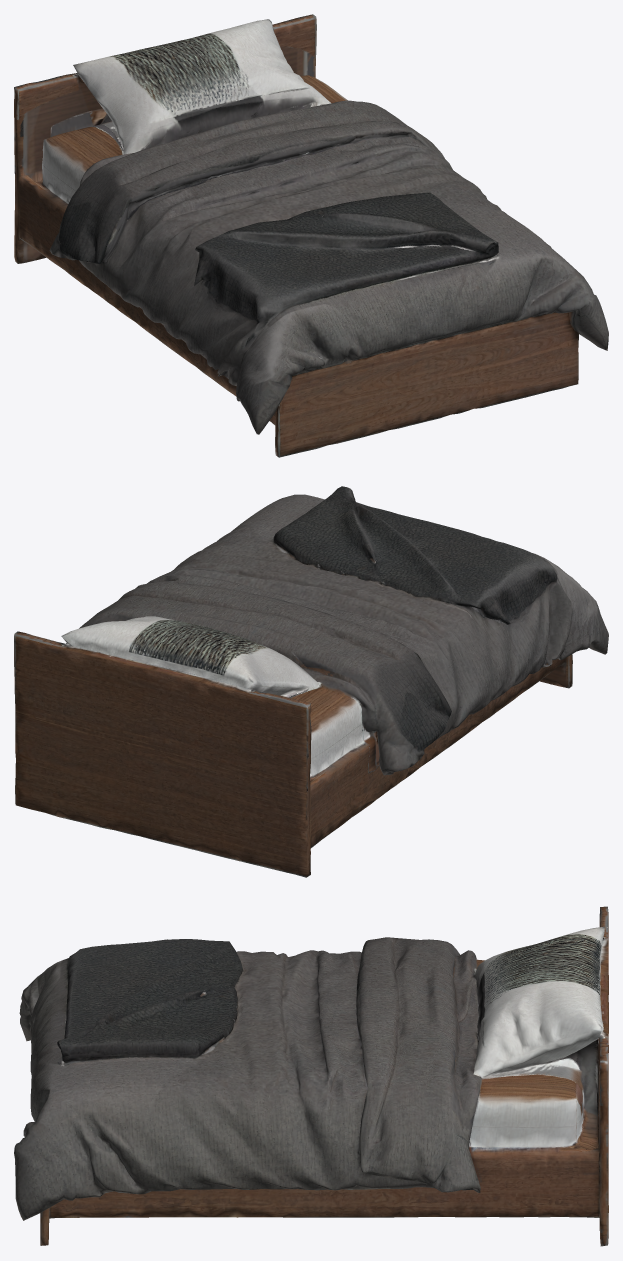
Rendered from Bed.glb.
The picture shows the model from 3 angles, top to bottom: view 1: azimuth 30°, elevation 25°; view 2: azimuth 150°, elevation 25°; view 3: azimuth 270°, elevation 25°; orthographic projection. The views are drawn at different scales.
Parts seen in each view (by area): view 1: texture_mapping; view 2: texture_mapping; view 3: texture_mapping.
Part boxes in pixels (x1=…): texture_mapping: x1=14, y1=14, x2=608, y2=457; texture_mapping: x1=14, y1=486, x2=608, y2=877; texture_mapping: x1=14, y1=906, x2=608, y2=1246.
Bounding box in the file's own units: 0.7635 × 0.3861 × 1.
Materials: 1 (1 with a texture image).
